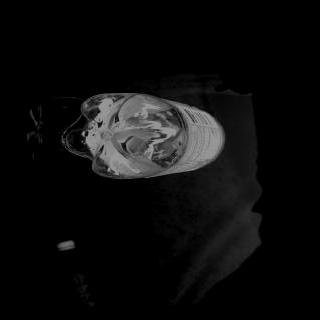bottle: (59, 90, 226, 180)
